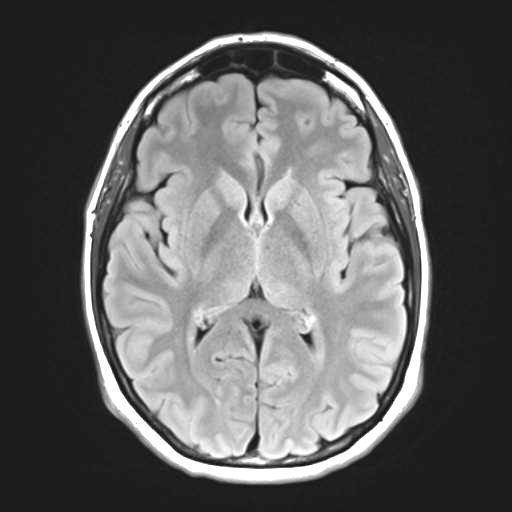Normal_Brain: (71, 35, 512, 482)
